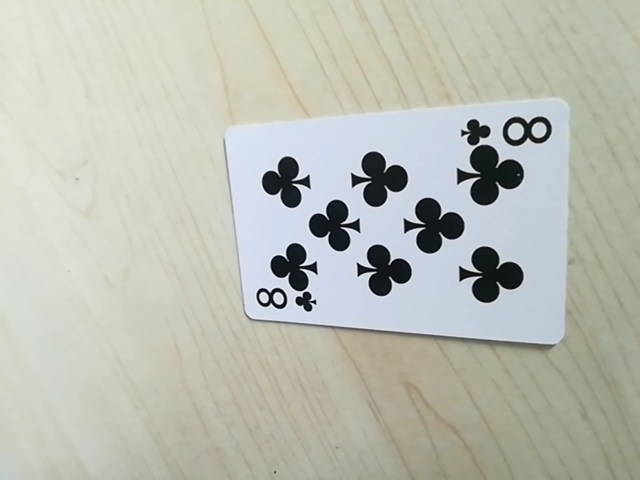mh 8: (460, 111, 555, 151), (248, 287, 319, 320)
